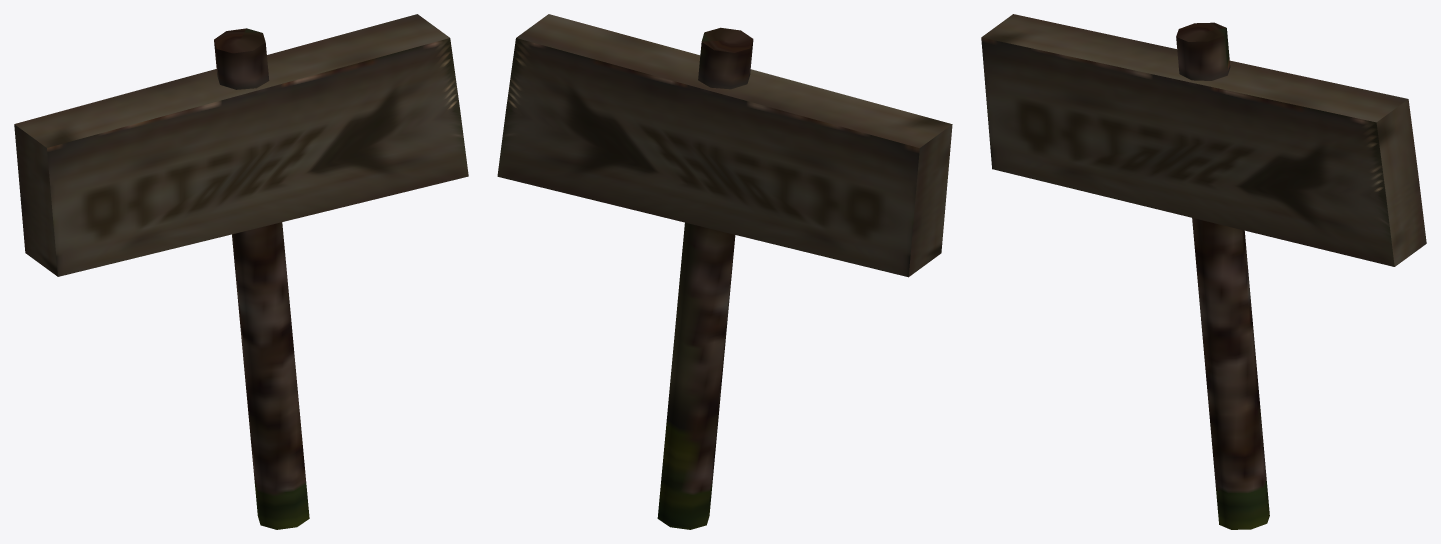
Rendered from rectSign.FBX.
3 renders of one model, left to right at view 1: azimuth 30°, elevation 25°; view 2: azimuth 150°, elevation 25°; view 3: azimuth 330°, elevation 25°, orthographic. The views are drawn at different scales.
Parts seen in each view (by area): view 1: Box001, Cylinder001; view 2: Box001, Cylinder001; view 3: Box001, Cylinder001.
Boxes of the visible parts, <box> form: Box001: <box>14,14,468,276</box>; Cylinder001: <box>214,28,309,529</box>; Box001: <box>497,14,952,277</box>; Cylinder001: <box>657,27,753,529</box>; Box001: <box>981,14,1426,266</box>; Cylinder001: <box>1176,22,1269,529</box>.
Bounding box in the file's own units: 17.23 × 19.19 × 2.31.
